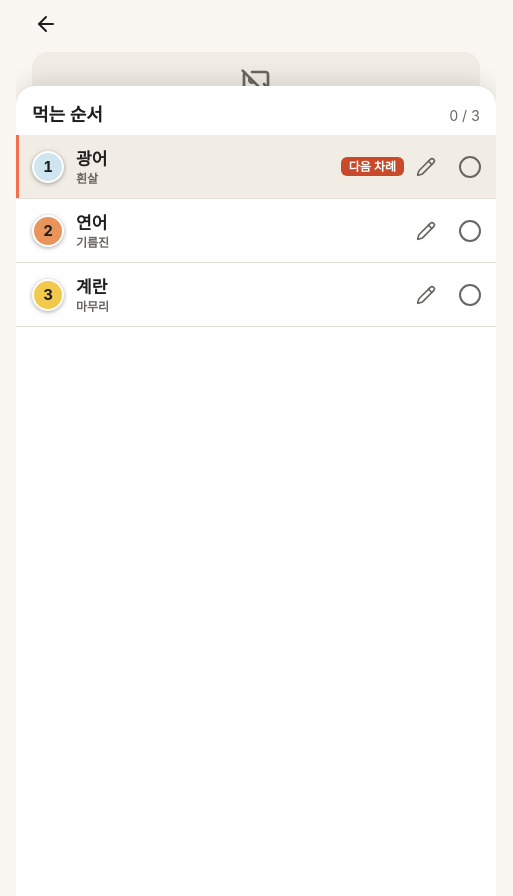
Test case: ResultPage › FR-RES-007 / BR-EAT-03 체크는 즉시 반영하고 300ms 디바운스 뒤 한 번만 PATCH한다
Step 1. Click the button named "1번 광어 먹음 표시" → click(470, 167), box [448,145,492,189]
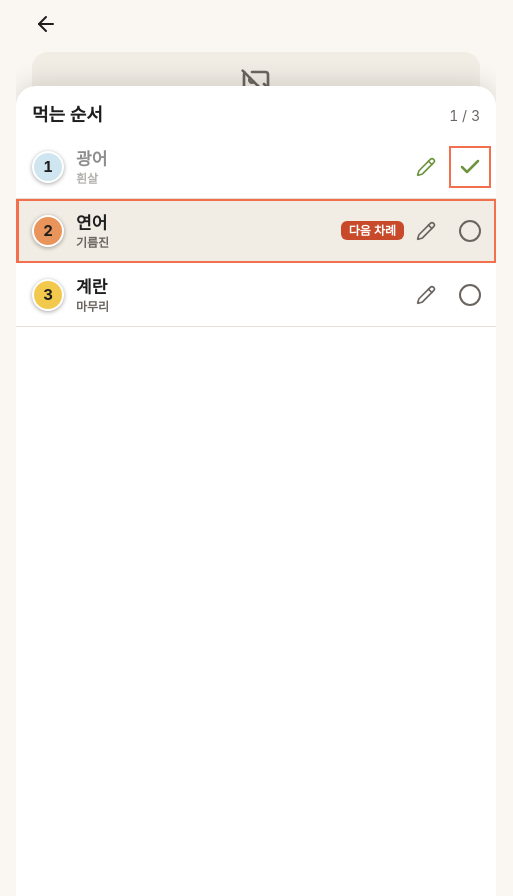
Expected: the text "1 / 3" is shown, [449,106,480,126]
